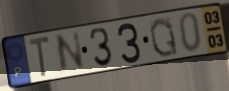0: (177, 11, 205, 55)
3: (115, 20, 142, 65), (88, 26, 115, 69)
N: (54, 29, 87, 76)
Q: (148, 16, 180, 59)
T: (27, 34, 52, 81)
